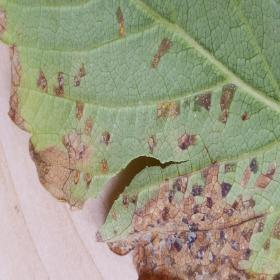Angular Leafspot: (0, 1, 279, 279)
